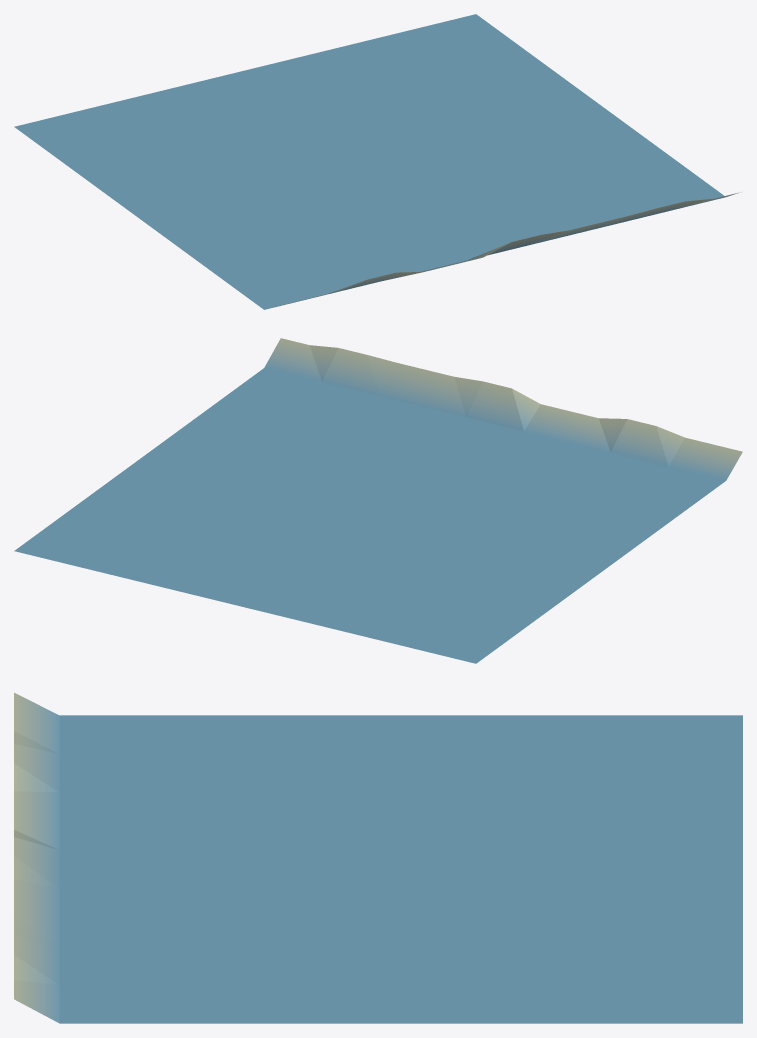
3 renders of one model, top to bottom at view 1: azimuth 30°, elevation 25°; view 2: azimuth 150°, elevation 25°; view 3: azimuth 270°, elevation 25°, orthographic. The views are drawn at different scales.
Bounding box in the file's own units: 32 × 1.57 × 32.
